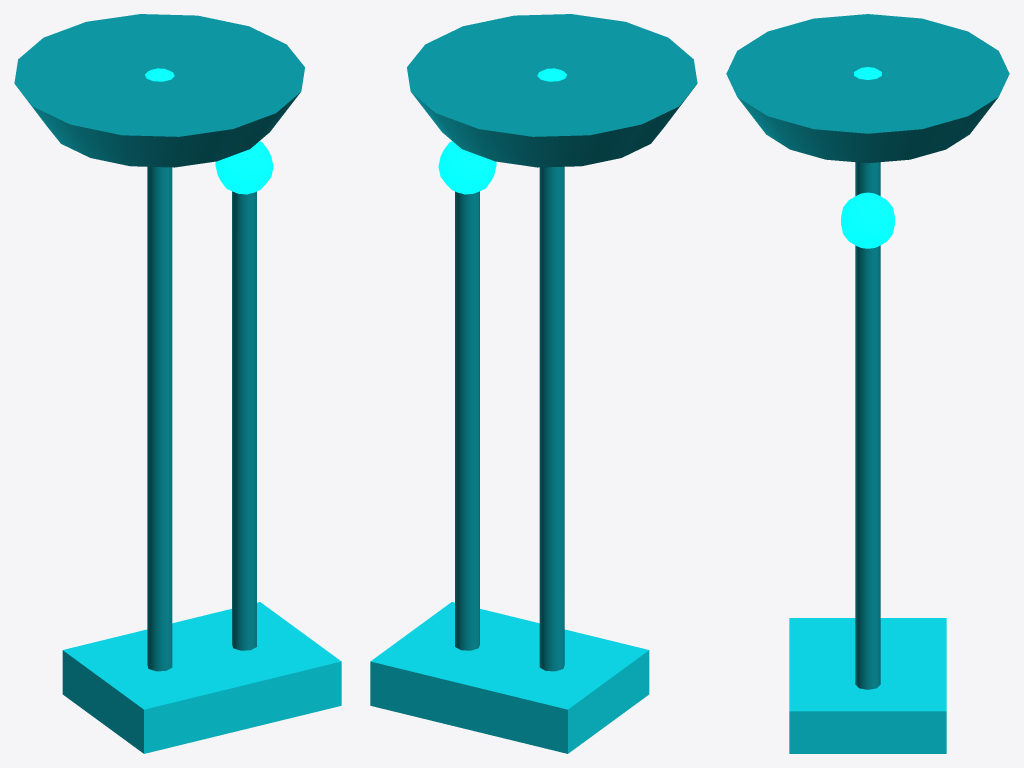
Rendered from antenas_radio.glb.
The picture shows the model from 3 angles, left to right: view 1: azimuth 30°, elevation 25°; view 2: azimuth 150°, elevation 25°; view 3: azimuth 270°, elevation 25°; orthographic projection. The views are drawn at different scales.
Visible parts, largest first — view 1: Detail, Body, Glow; view 2: Detail, Body, Glow; view 3: Detail, Body, Glow.
Part boxes in pixels (x1=…): Detail: x1=14, y1=14, x2=304, y2=671; Body: x1=62, y1=602, x2=341, y2=753; Glow: x1=145, y1=68, x2=273, y2=194; Detail: x1=407, y1=14, x2=697, y2=671; Body: x1=370, y1=602, x2=649, y2=753; Glow: x1=438, y1=68, x2=566, y2=194; Detail: x1=726, y1=14, x2=1009, y2=689; Body: x1=789, y1=618, x2=946, y2=753; Glow: x1=841, y1=67, x2=894, y2=248.
Size of the model in its own units: 0.19 by 0.433 by 0.18.
